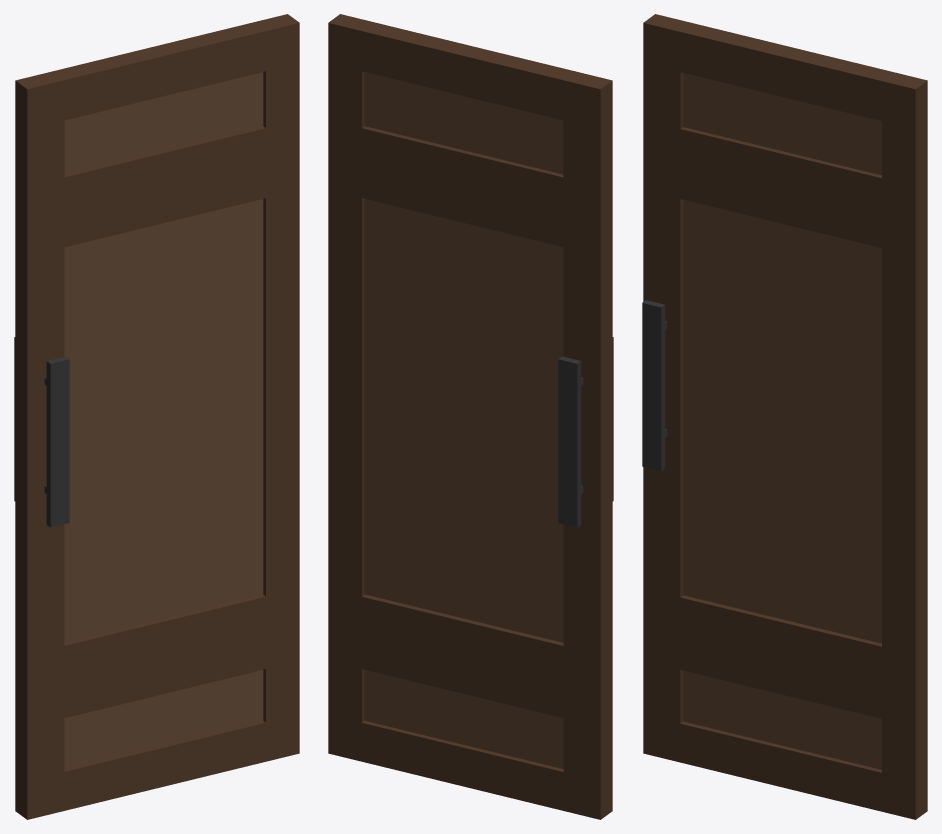
The model's file is SM_Buildings_House_12_Door_R.fbx.
3 views of the same model, side by side, from view 1: azimuth 30°, elevation 25°; view 2: azimuth 150°, elevation 25°; view 3: azimuth 330°, elevation 25° (orthographic).
Visible parts, largest first — view 1: SM_Buildings_House_12_Door_R; view 2: SM_Buildings_House_12_Door_R; view 3: SM_Buildings_House_12_Door_R.
Boxes of the visible parts, x1,y1,x2,y2 form: SM_Buildings_House_12_Door_R: [14, 14, 299, 819]; SM_Buildings_House_12_Door_R: [328, 14, 613, 819]; SM_Buildings_House_12_Door_R: [642, 14, 927, 819].
Bounding box in the file's own units: 1.09 × 2.8 × 0.2533.
